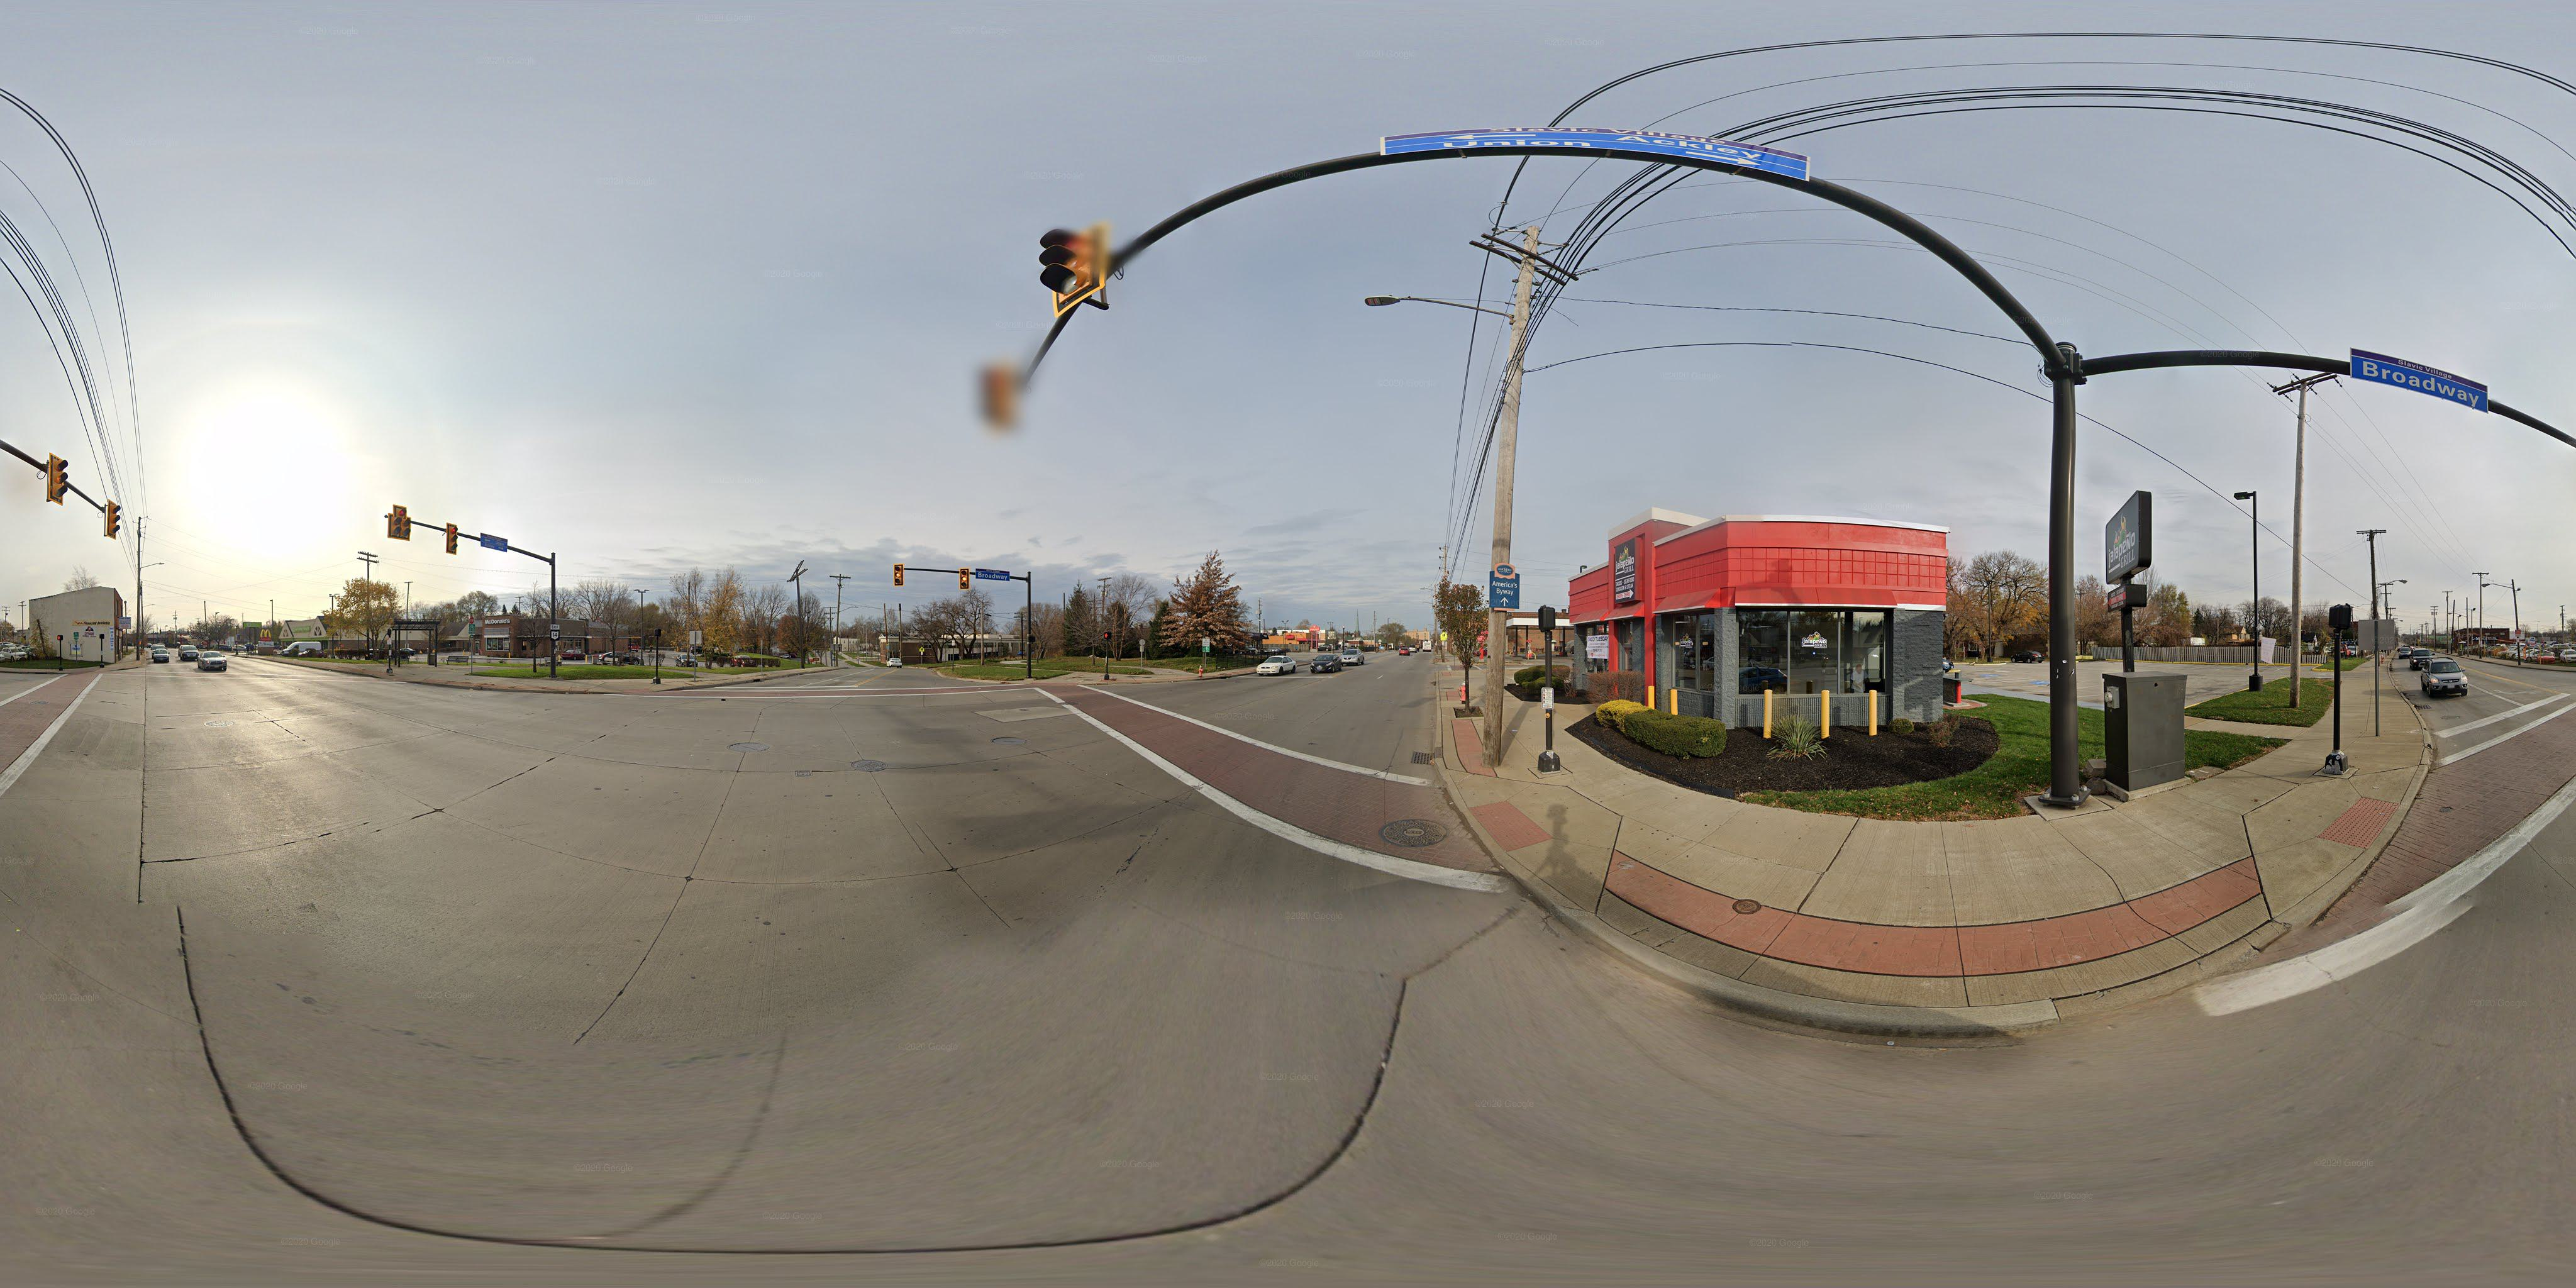Curb Ramp: (2265, 762, 2445, 882), (1436, 764, 1572, 876), (1022, 672, 1084, 692), (611, 682, 664, 698), (64, 664, 115, 678), (375, 667, 411, 685)
